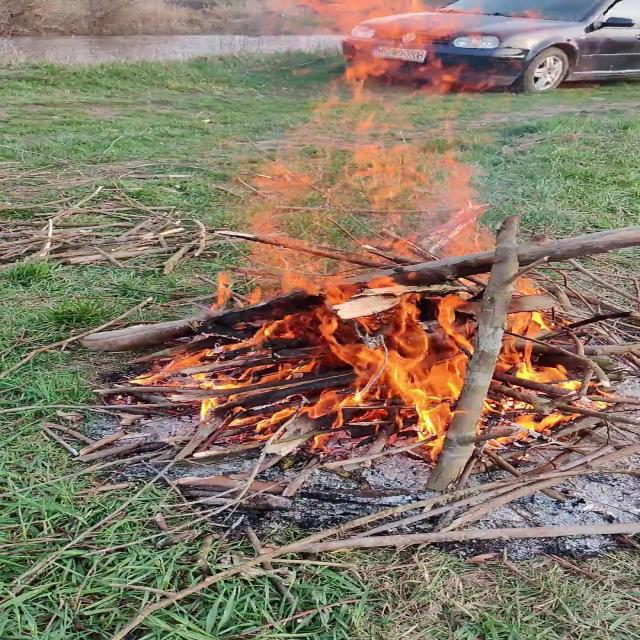Fire: (77, 26, 593, 444)
